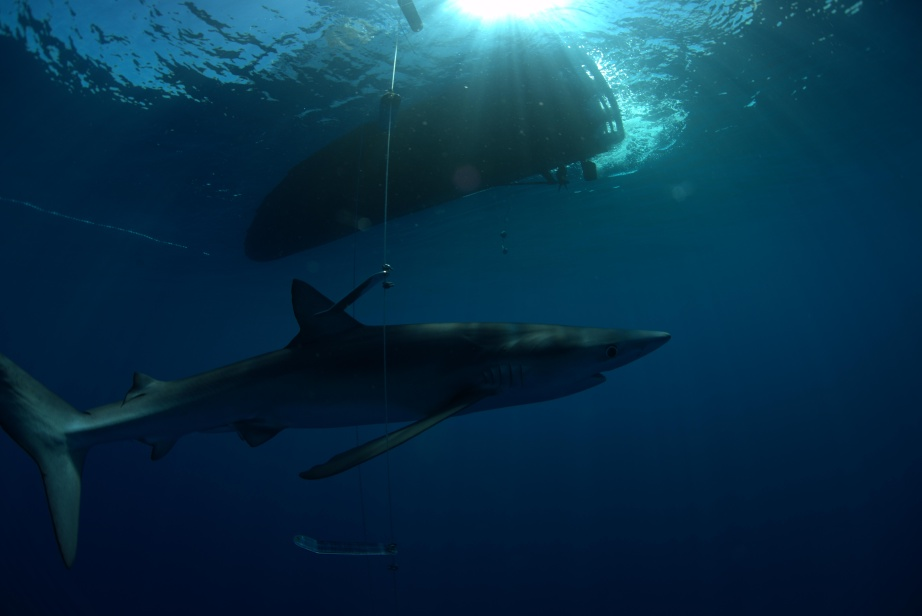Azul: (1, 251, 698, 578)
